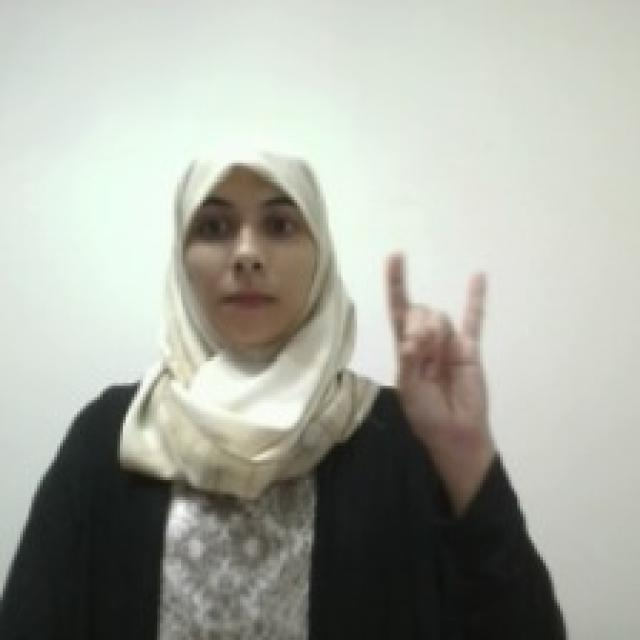No: (379, 244, 492, 441)
